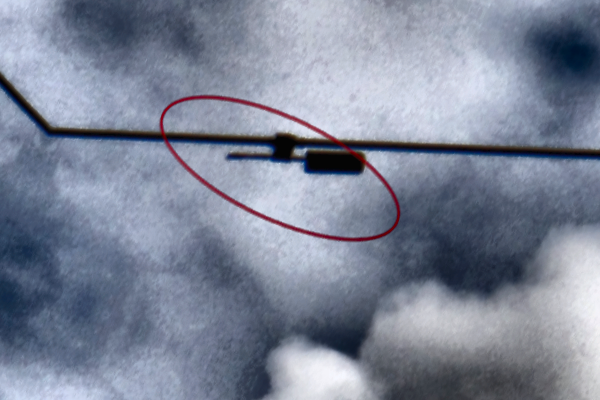damper_defect: (220, 129, 369, 176)
